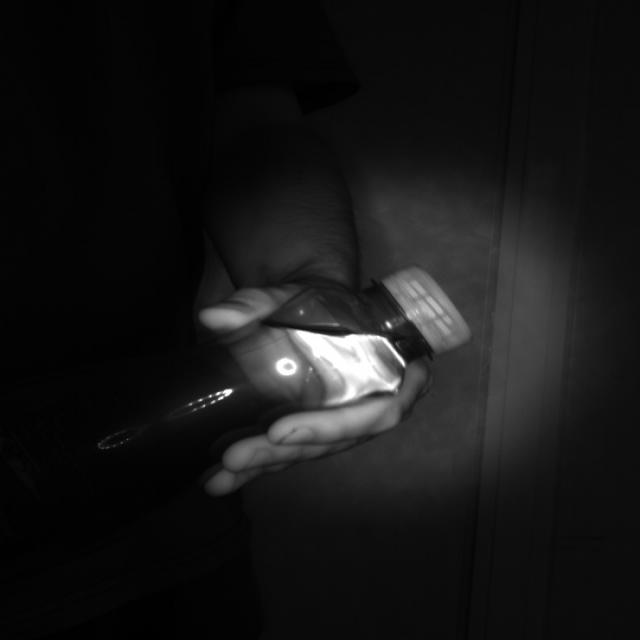Good: (378, 261, 478, 357)
